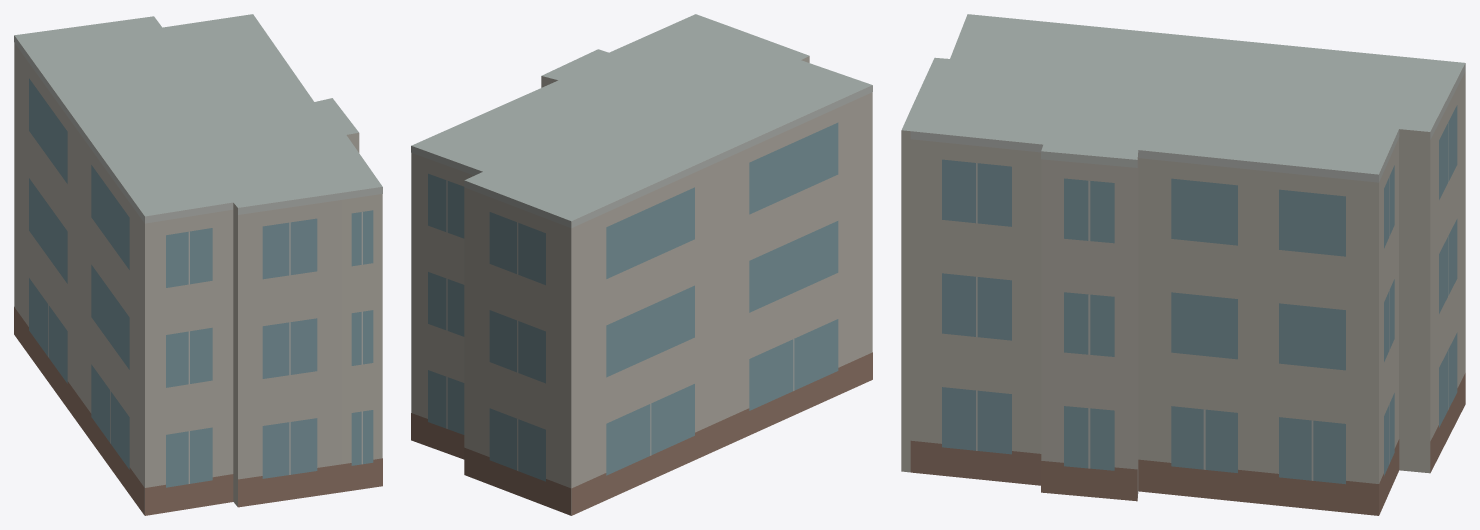
The model's file is survey-upis-32508802.glb.
3 views of the same model, side by side, from view 1: azimuth 30°, elevation 25°; view 2: azimuth 150°, elevation 25°; view 3: azimuth 270°, elevation 25° (orthographic). The views are drawn at different scales.
Visible parts, largest first — view 1: survey-upis-32508802.tmp; view 2: survey-upis-32508802.tmp; view 3: survey-upis-32508802.tmp.
Boxes of the visible parts, x1=… form: survey-upis-32508802.tmp: x1=14, y1=14, x2=382, y2=515; survey-upis-32508802.tmp: x1=411, y1=14, x2=872, y2=515; survey-upis-32508802.tmp: x1=901, y1=14, x2=1465, y2=515.
Size of the model in its own units: 10.4 by 10.3 by 15.44.
